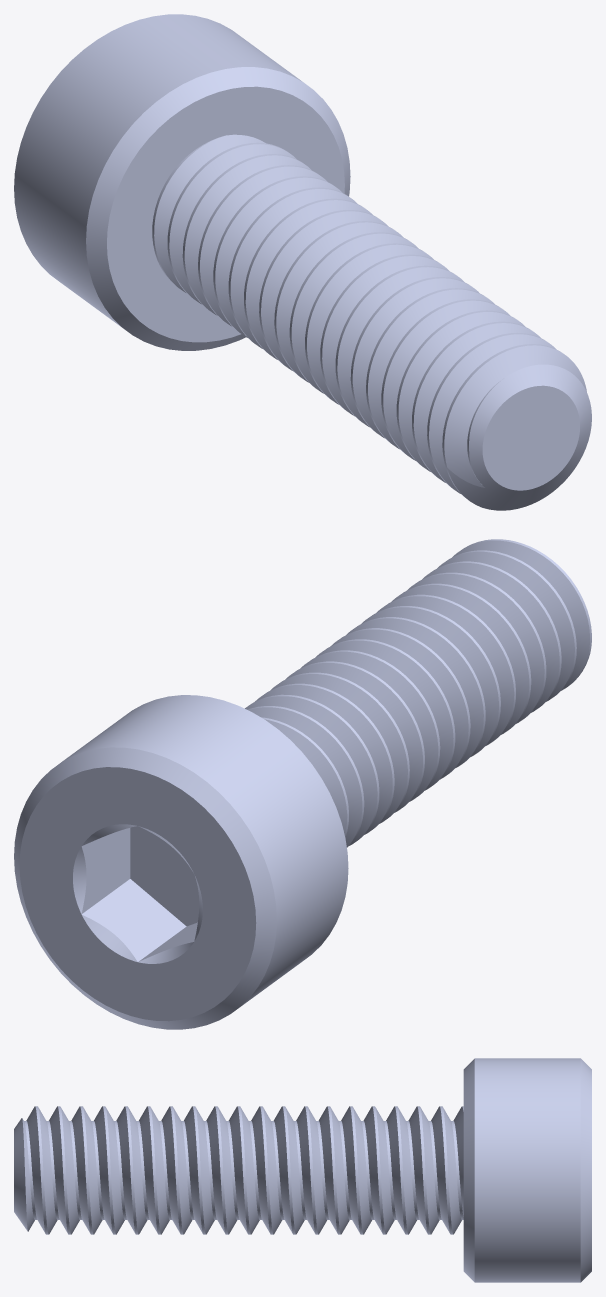
The model's file is Imported1.obj.
The picture shows the model from 3 angles, top to bottom: view 1: azimuth 30°, elevation 25°; view 2: azimuth 150°, elevation 25°; view 3: azimuth 270°, elevation 25°; orthographic projection. The views are drawn at different scales.
Visible parts, largest first — view 1: mesh1816, mesh1733, mesh1736, mesh1822, mesh1735, mesh1732, mesh1821, mesh1820, mesh1734; view 2: mesh1818, mesh1729, mesh1733, mesh1731, mesh1732, mesh1719, mesh1722, mesh1730, mesh1724, mesh1723, mesh1725; view 3: mesh1816, mesh1818, mesh1733, mesh1732, mesh1731, mesh1735, mesh1821, mesh1734, mesh1730, mesh1820, mesh1764, mesh1744 (+17 smaller).
Boxes of the visible parts, box(x1,y1,x2,y2) form: mesh1816: box(154, 134, 586, 493); mesh1733: box(14, 14, 302, 240); mesh1736: box(107, 86, 344, 342); mesh1822: box(482, 385, 579, 490); mesh1735: box(86, 67, 350, 243); mesh1732: box(14, 189, 120, 326); mesh1821: box(469, 364, 591, 449); mesh1820: box(447, 416, 591, 510); mesh1734: box(86, 177, 350, 350); mesh1818: box(245, 540, 589, 846); mesh1729: box(19, 767, 256, 1021); mesh1733: box(61, 695, 348, 920); mesh1731: box(14, 747, 276, 922); mesh1732: box(242, 868, 348, 1005); mesh1719: box(130, 826, 199, 926); mesh1722: box(82, 879, 186, 961); mesh1730: box(14, 857, 276, 1029); mesh1724: box(81, 828, 130, 913); mesh1723: box(82, 915, 137, 961); mesh1725: box(73, 846, 86, 913); mesh1816: box(26, 1106, 463, 1233); mesh1818: box(22, 1107, 461, 1234); mesh1733: box(474, 1058, 580, 1217); mesh1732: box(474, 1218, 580, 1282); mesh1731: box(580, 1058, 591, 1217); mesh1735: box(463, 1059, 474, 1217); mesh1821: box(14, 1118, 25, 1194); mesh1734: box(463, 1213, 474, 1281); mesh1730: box(580, 1213, 591, 1282); mesh1820: box(14, 1188, 27, 1231); mesh1764: box(170, 1106, 179, 1197); mesh1744: box(395, 1106, 404, 1197).
Size of the model in its own units: 0.007 by 0.00699 by 0.018.
